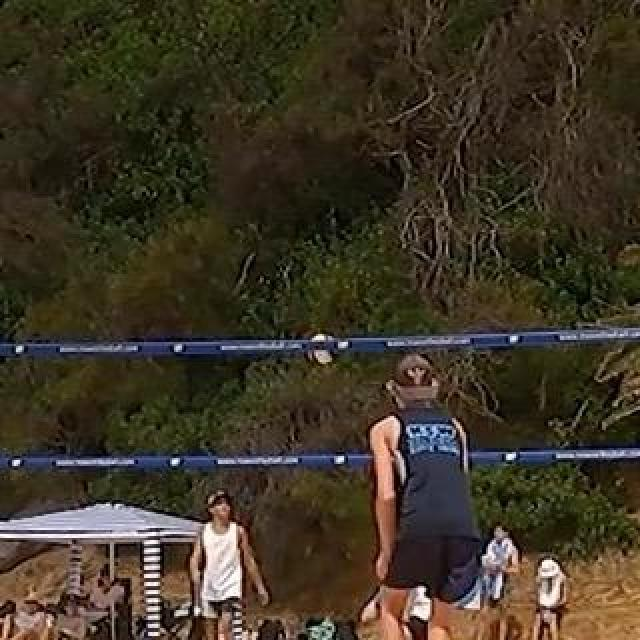volleyball: (308, 333, 338, 367)
